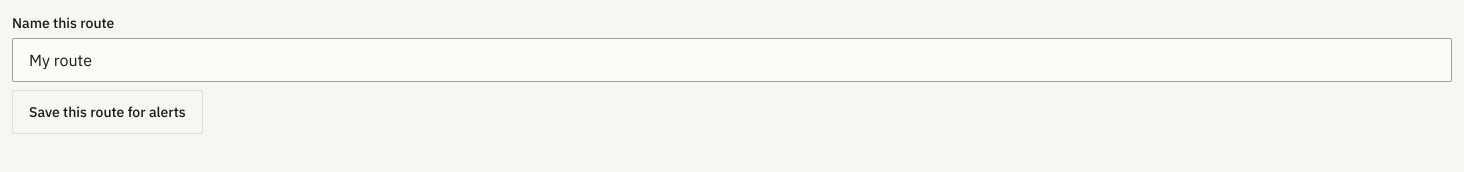
Test: save this route › saves the planned endpoints, profile and a name, and confirms
Replace the text in the field labelled "Name this route" with "Gym route" at (732, 60), box [12,38,1452,82]
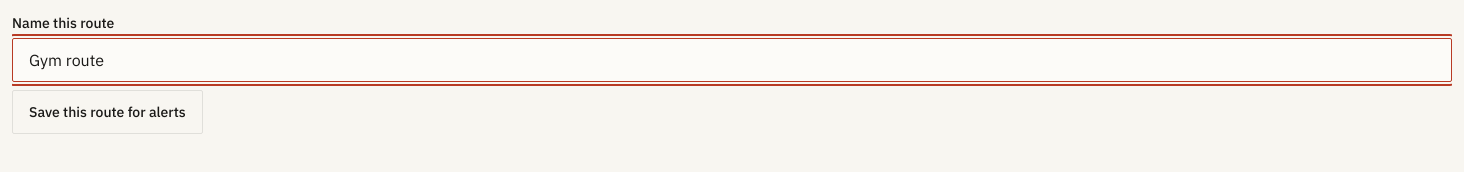
Click the button "Save this route for alerts" at (107, 112), box [12,90,203,134]
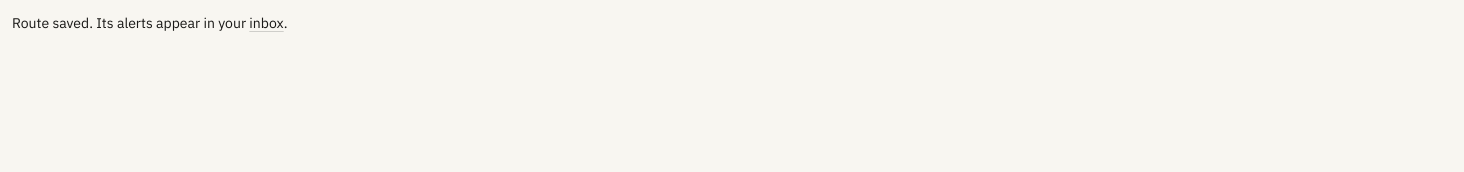
Now the text "Route saved. Its alerts appear in your inbox ." is shown, box [12,14,288,32]
